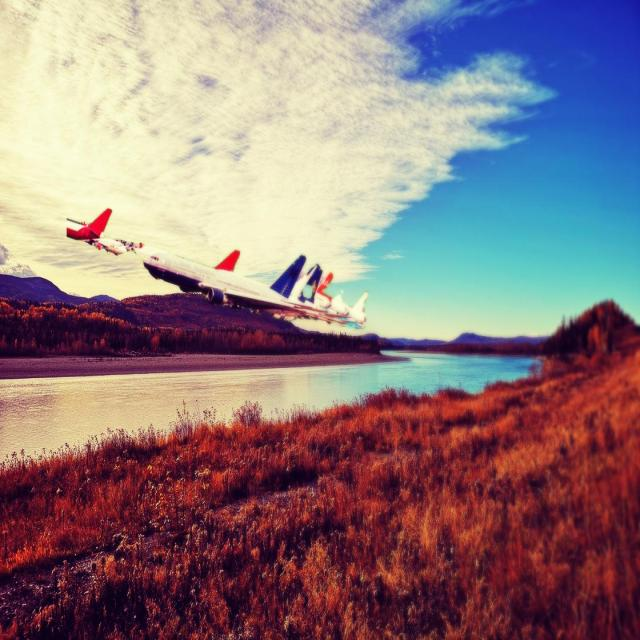airplane: (137, 243, 299, 317)
